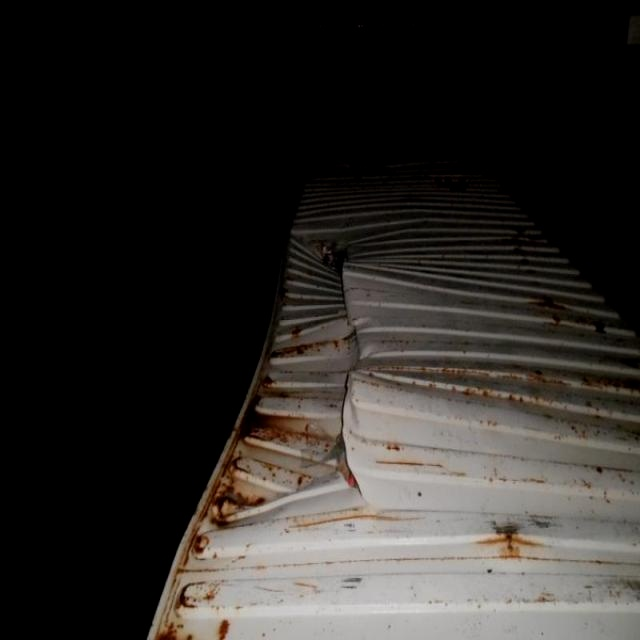Dent: (274, 272, 374, 498), (218, 225, 291, 512), (303, 215, 529, 263)
Hole: (321, 241, 351, 279)
